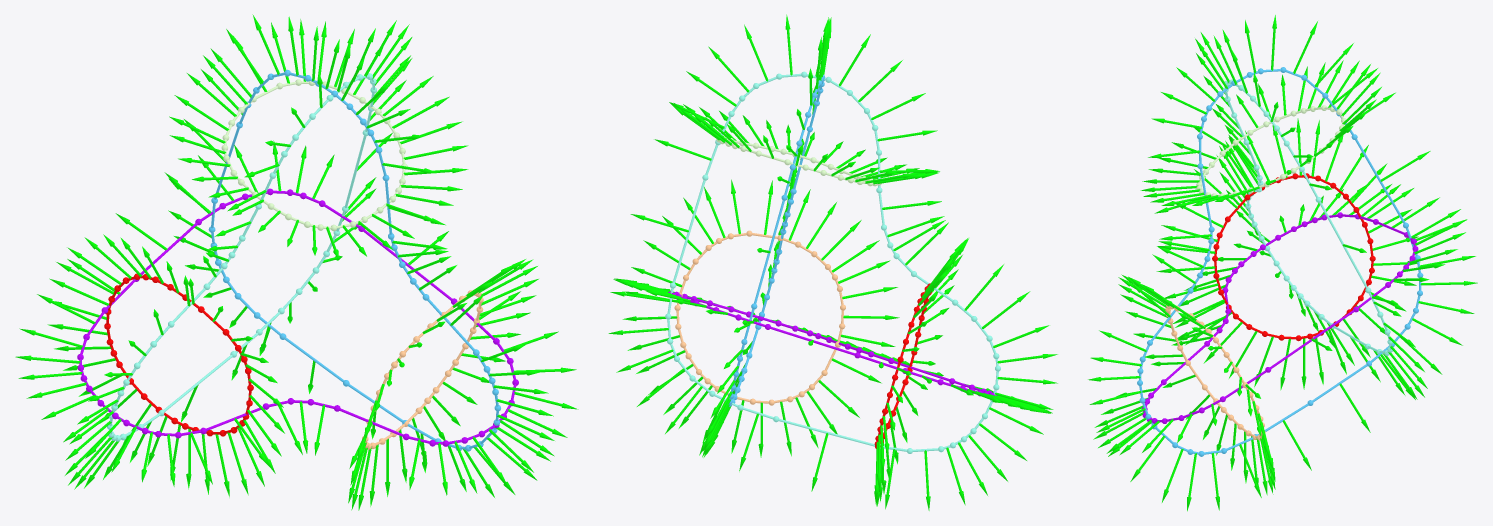
Rendered from flowrep_trebol.gltf.
The picture shows the model from 3 angles, left to right: view 1: azimuth 30°, elevation 25°; view 2: azimuth 150°, elevation 25°; view 3: azimuth 270°, elevation 25°; orthographic projection. The views are drawn at different scales.
Size of the model in its own units: 0.8297 by 0.8036 by 0.6561.
